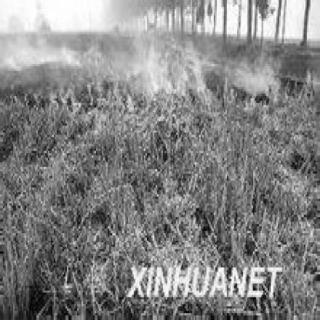Fire: (221, 67, 313, 107)
